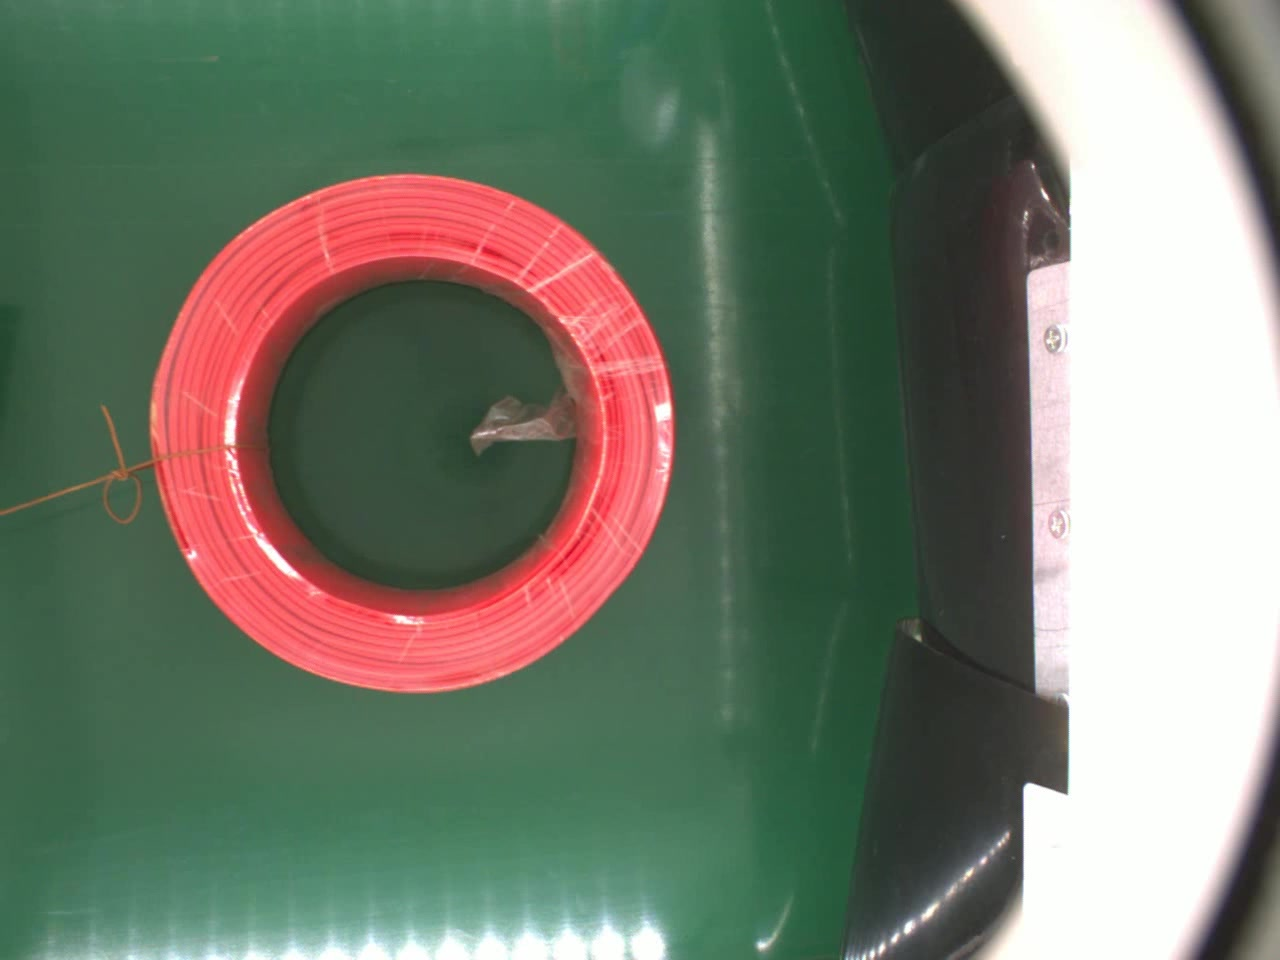red: (141, 166, 687, 707)
